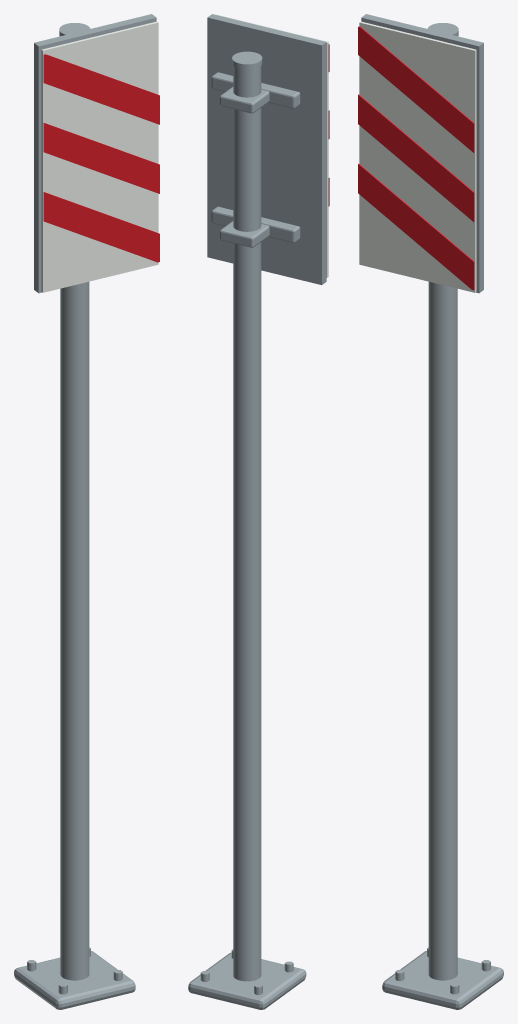
The model's file is DS_Sign_RailwayDist3_L.fbx.
3 renders of one model, left to right at view 1: azimuth 30°, elevation 25°; view 2: azimuth 150°, elevation 25°; view 3: azimuth 330°, elevation 25°, orthographic. The views are drawn at different scales.
Visible parts, largest first — view 1: Post.007, Face_Field.005, BasePlate.007, Stripe_1.002, Stripe_0.003, Stripe_2.001, Plate_Back.010; view 2: Post.007, Plate_Back.010, BasePlate.007, RearRail.016, RearRail.015, Face_Field.005, PostClamp.016, PostClamp.015, PostCap.007; view 3: Post.007, Face_Field.005, Stripe_1.002, Stripe_2.001, Stripe_0.003, BasePlate.007, Plate_Back.010.
Boxes of the visible parts, x1,y1,x2,y2 form: Post.007: (60, 281, 89, 980); Face_Field.005: (41, 21, 158, 292); BasePlate.007: (14, 951, 135, 1009); Stripe_1.002: (43, 123, 159, 193); Stripe_0.003: (43, 192, 159, 262); Stripe_2.001: (43, 54, 159, 124); Plate_Back.010: (34, 14, 156, 293); Post.007: (233, 66, 261, 981); Plate_Back.010: (207, 14, 326, 284); BasePlate.007: (188, 952, 306, 1009); RearRail.016: (211, 72, 300, 108); RearRail.015: (211, 206, 300, 242); Face_Field.005: (216, 14, 328, 277); PostClamp.016: (220, 86, 269, 113); PostClamp.015: (220, 221, 269, 247); PostCap.007: (232, 51, 262, 69); Post.007: (428, 281, 457, 980); Face_Field.005: (359, 21, 476, 292); Stripe_1.002: (358, 94, 474, 221); Stripe_2.001: (358, 26, 474, 152); Stripe_0.003: (358, 163, 474, 290); BasePlate.007: (382, 951, 503, 1009); Plate_Back.010: (361, 14, 483, 293).
Size of the model in its own units: 35.7 by 281 by 26.2.
